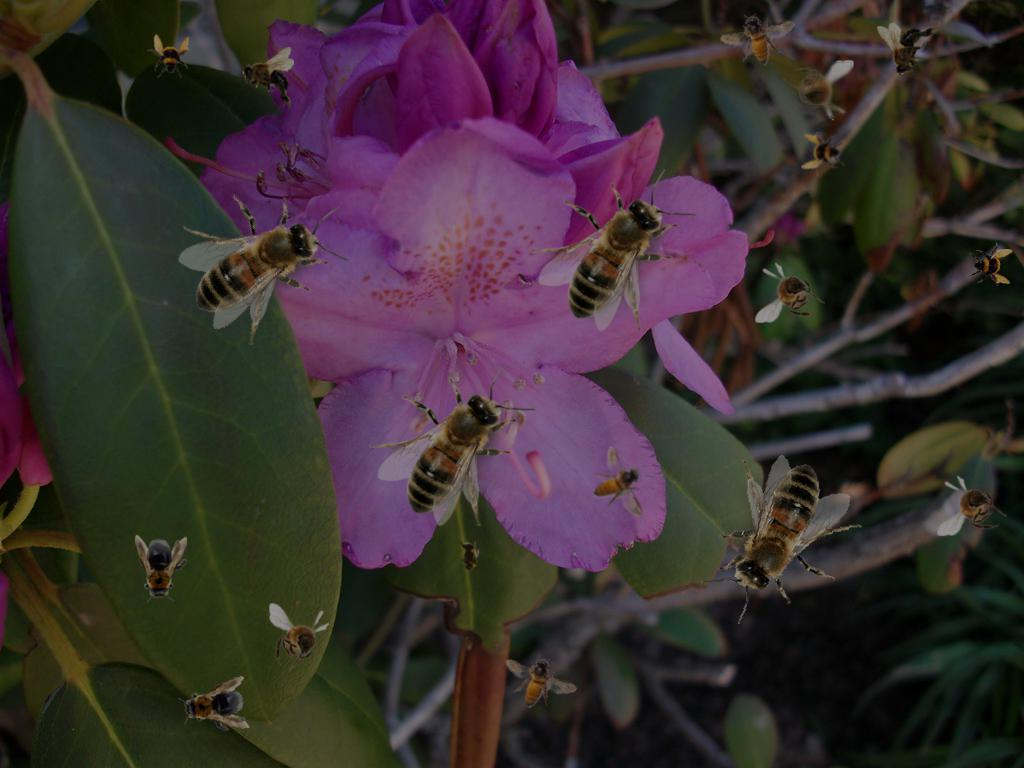Bee: (150, 152, 369, 368), (686, 446, 873, 628), (369, 364, 536, 526), (530, 169, 697, 331), (493, 637, 579, 724), (716, 7, 796, 70), (176, 676, 252, 738), (755, 262, 825, 323), (937, 475, 1007, 536), (269, 603, 330, 673), (784, 60, 854, 121), (593, 446, 643, 517), (135, 535, 187, 603), (877, 23, 939, 76), (241, 47, 294, 109), (147, 34, 191, 78), (801, 132, 845, 176), (969, 242, 1013, 286), (458, 537, 480, 577)
